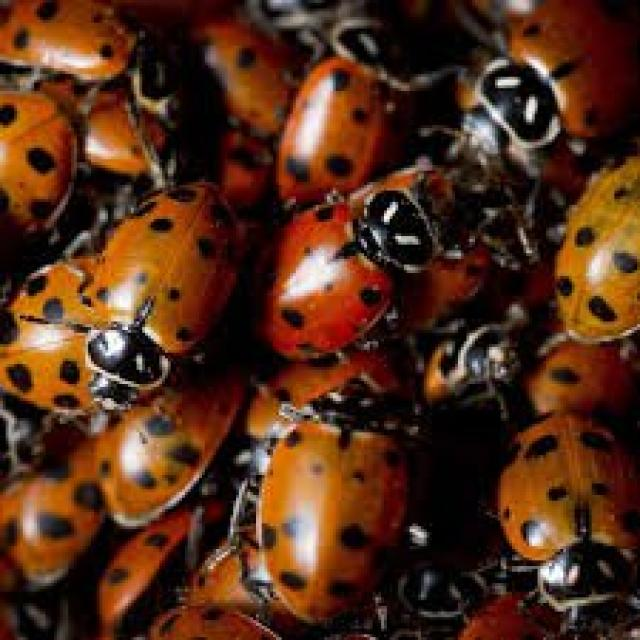ladybug: (80, 182, 236, 387), (455, 0, 637, 174), (265, 182, 441, 358), (498, 412, 637, 609), (276, 17, 410, 199), (97, 373, 242, 526), (555, 156, 637, 338), (0, 259, 91, 407), (0, 0, 134, 80), (0, 91, 74, 233), (202, 17, 290, 131)
